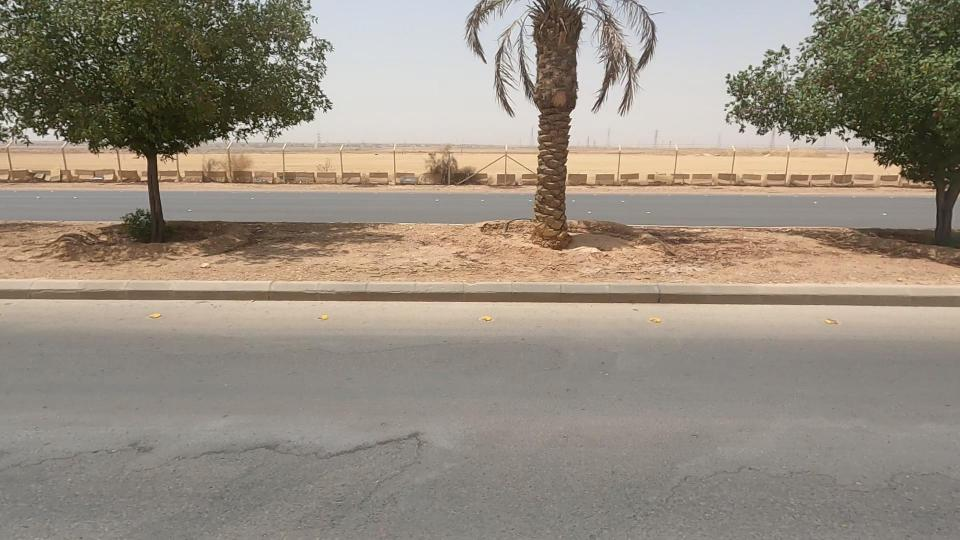CLUTTER_SIDEWALK: (547, 166, 960, 327), (142, 180, 558, 314)
